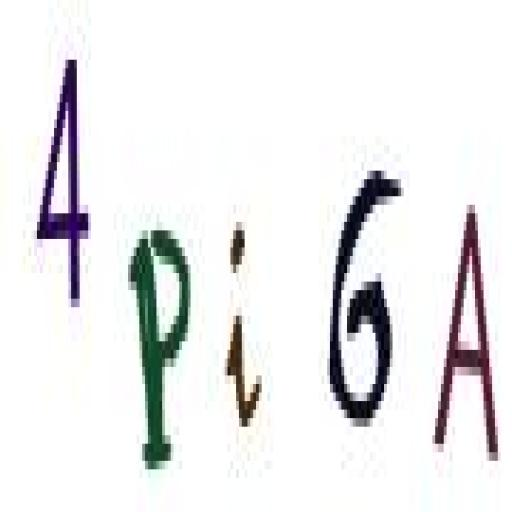4: (34, 44, 96, 316)
6: (318, 149, 406, 438)
A: (429, 194, 502, 475)
P: (124, 223, 201, 474)
i: (223, 217, 268, 444)
